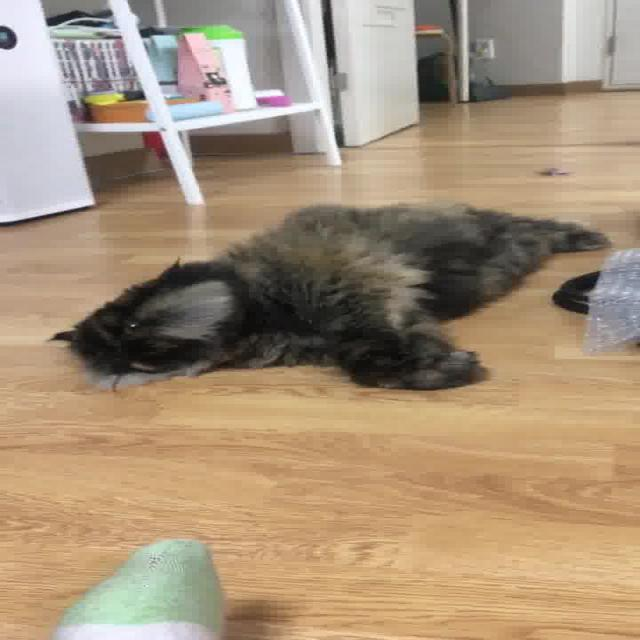cat: (28, 165, 628, 409)
